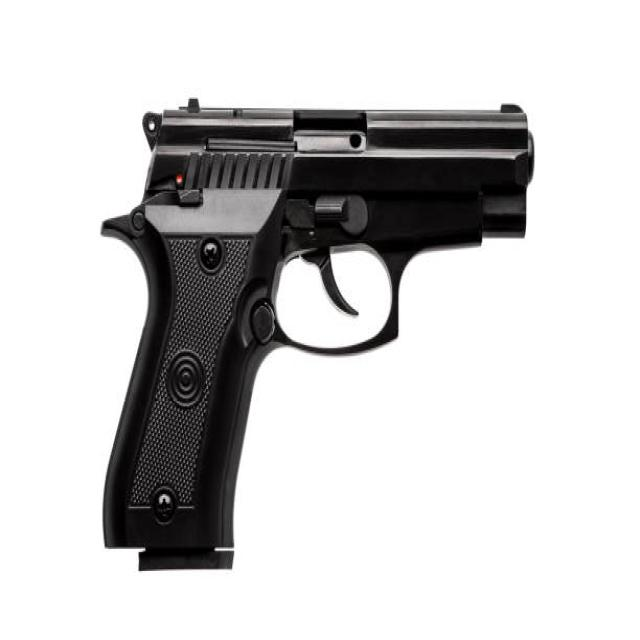pistol: (100, 91, 541, 578)
